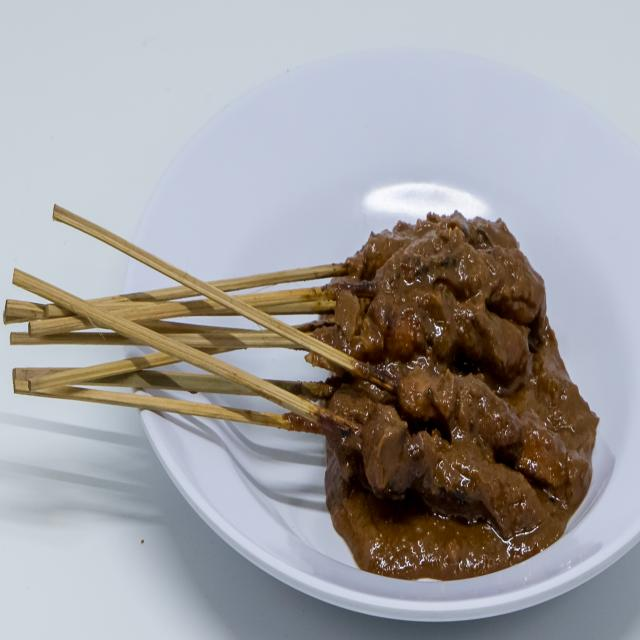Sate-Ayam: (310, 166, 597, 536)
